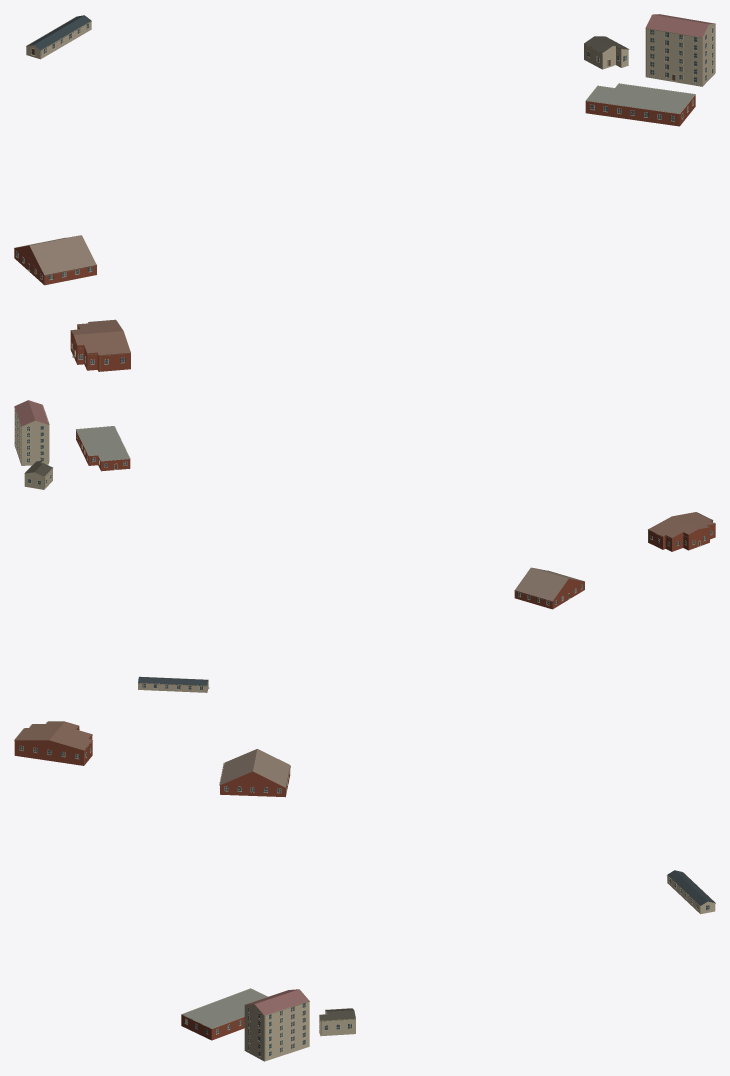
3 renders of one model, top to bottom at view 1: azimuth 30°, elevation 25°; view 2: azimuth 150°, elevation 25°; view 3: azimuth 270°, elevation 25°, orthographic. The views are drawn at different scales.
Visible parts, largest first — view 1: -2_-6_609781268_0, -2_-6_1341073792_3; view 2: -2_-6_609781268_0, -2_-6_1341073792_3; view 3: -2_-6_609781268_0, -2_-6_1341073792_3.
Part boxes in pixels (x1=…): -2_-6_609781268_0: x1=14, y1=14, x2=715, y2=371; -2_-6_1341073792_3: x1=26, y1=21, x2=715, y2=86; -2_-6_609781268_0: x1=14, y1=400, x2=715, y2=690; -2_-6_1341073792_3: x1=14, y1=407, x2=208, y2=692; -2_-6_609781268_0: x1=14, y1=721, x2=715, y2=1059; -2_-6_1341073792_3: x1=244, y1=875, x2=715, y2=1061.
Size of the model in its own units: 285 by 31.73 by 246.
